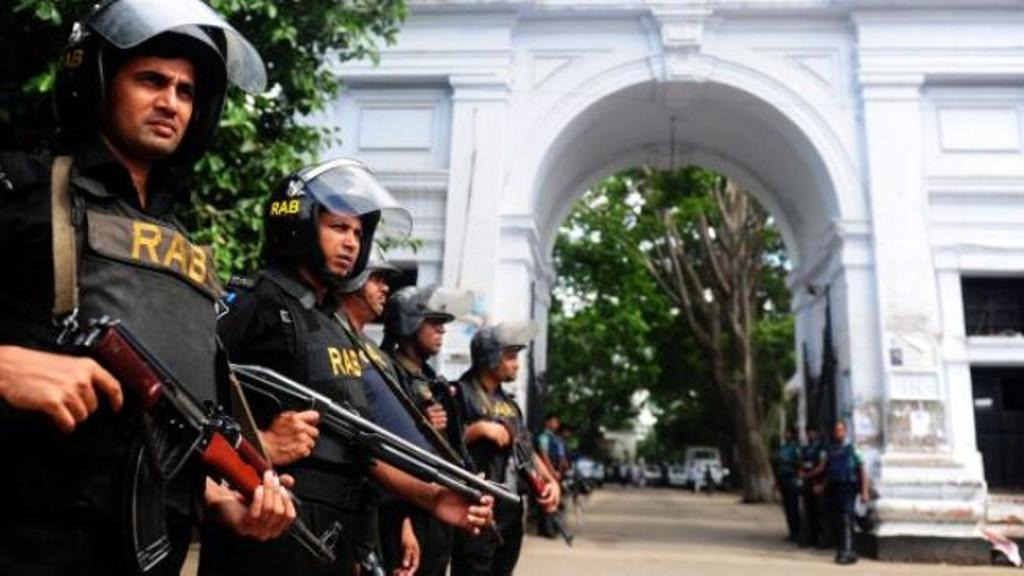face: (109, 52, 199, 154), (318, 195, 367, 282), (363, 267, 391, 320), (420, 315, 446, 356), (496, 345, 521, 383), (835, 425, 848, 444), (549, 417, 561, 430), (808, 430, 818, 442), (784, 430, 793, 442), (563, 428, 571, 438)
